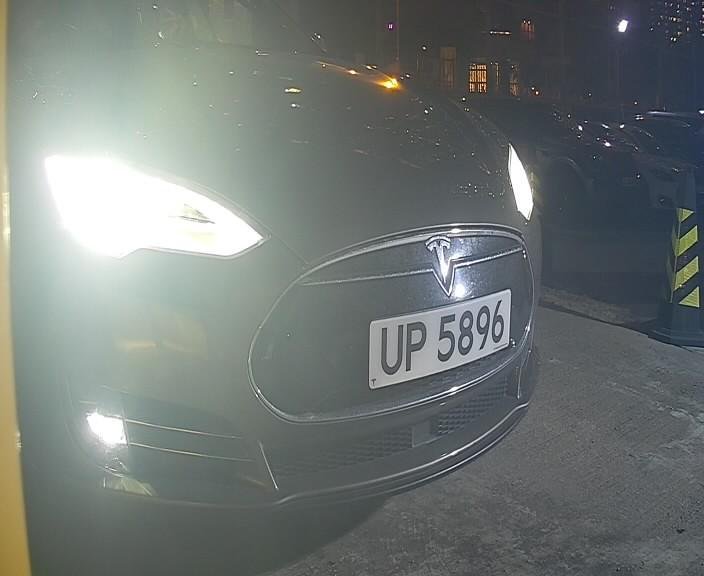License Plate: (362, 283, 516, 391)
